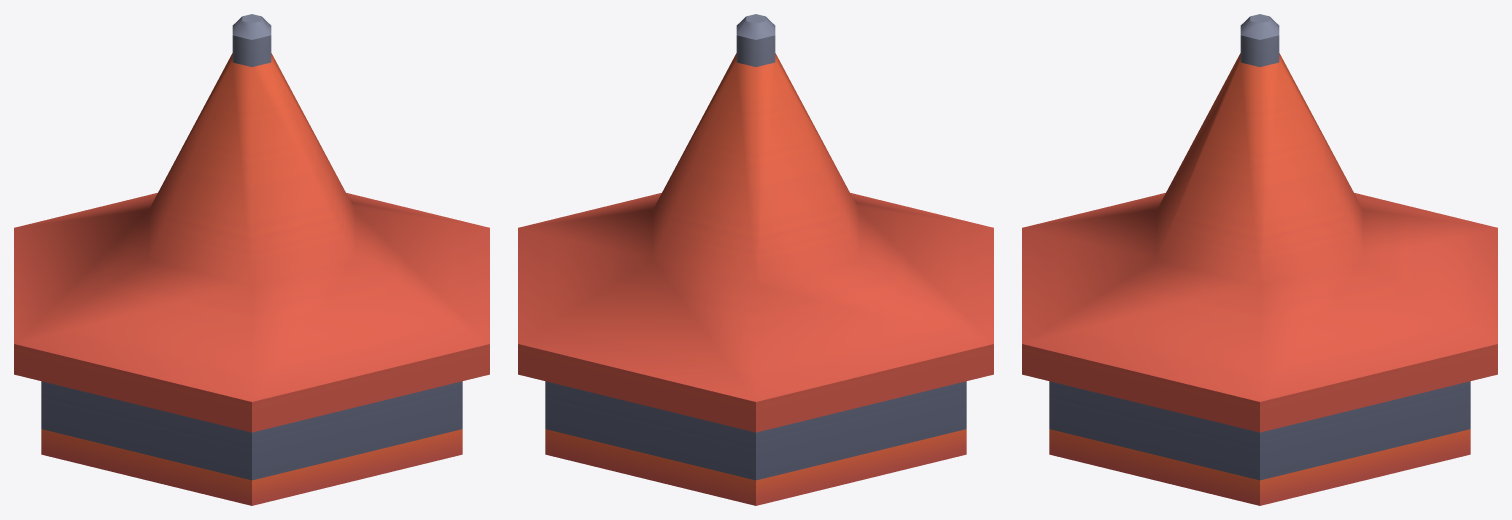
Rendered from tower-hexagon-roof-secondary.fbx.
3 views of the same model, side by side, from view 1: azimuth 30°, elevation 25°; view 2: azimuth 150°, elevation 25°; view 3: azimuth 270°, elevation 25° (orthographic).
Visible parts, largest first — view 1: tower-hexagon-roof-secondary; view 2: tower-hexagon-roof-secondary; view 3: tower-hexagon-roof-secondary.
Part boxes in pixels (x1,y1,x2,y2): tower-hexagon-roof-secondary: (14, 14, 489, 505); tower-hexagon-roof-secondary: (518, 14, 993, 505); tower-hexagon-roof-secondary: (1022, 14, 1497, 505).
Bounding box in the file's own units: 0.9763 × 0.8455 × 0.7537.
